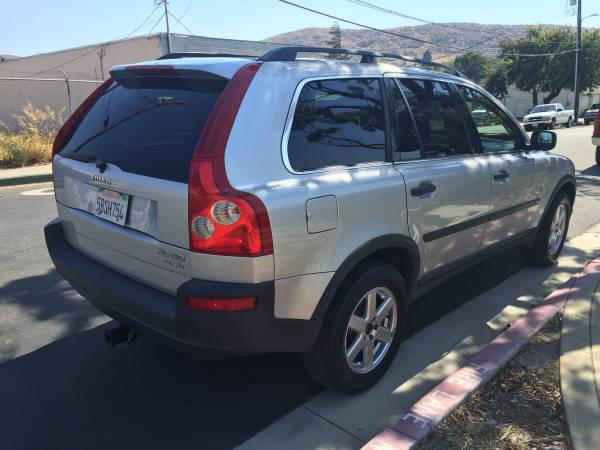volvo: (22, 30, 585, 401)
